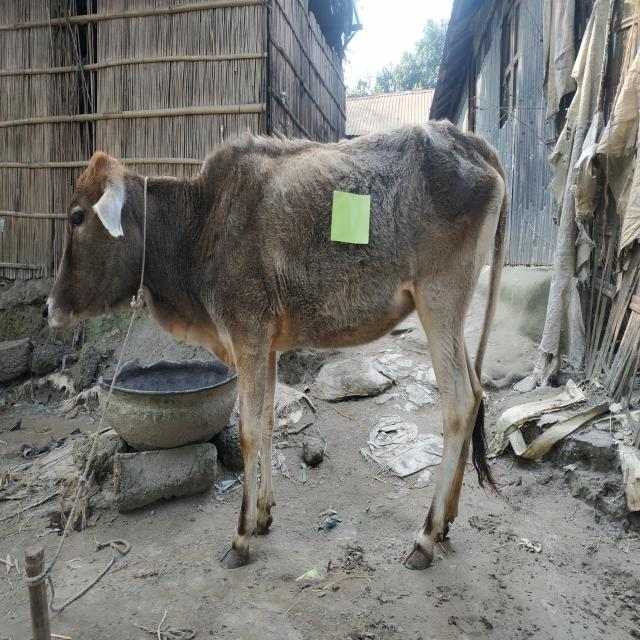badan_sapi: (232, 131, 461, 365)
sapi: (38, 119, 516, 575)
